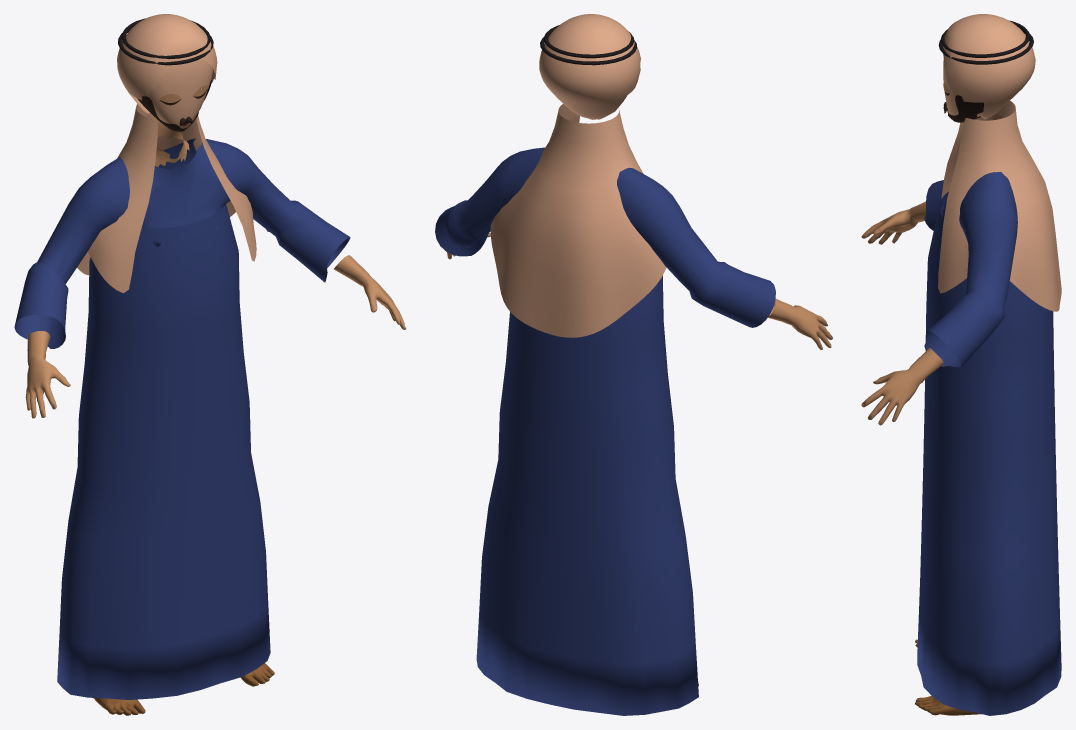
The model's file is trader.fbx.
The picture shows the model from 3 angles, left to right: view 1: azimuth 30°, elevation 25°; view 2: azimuth 150°, elevation 25°; view 3: azimuth 270°, elevation 25°; orthographic projection.
Visible parts, largest first — view 1: trader_mixamo; view 2: trader_mixamo; view 3: trader_mixamo.
Boxes of the visible parts, x1,y1,x2,y2 form: trader_mixamo: [14, 14, 406, 715]; trader_mixamo: [435, 14, 832, 715]; trader_mixamo: [861, 14, 1061, 715].
Bounding box in the file's own units: 1.05 × 1.78 × 0.4893.
